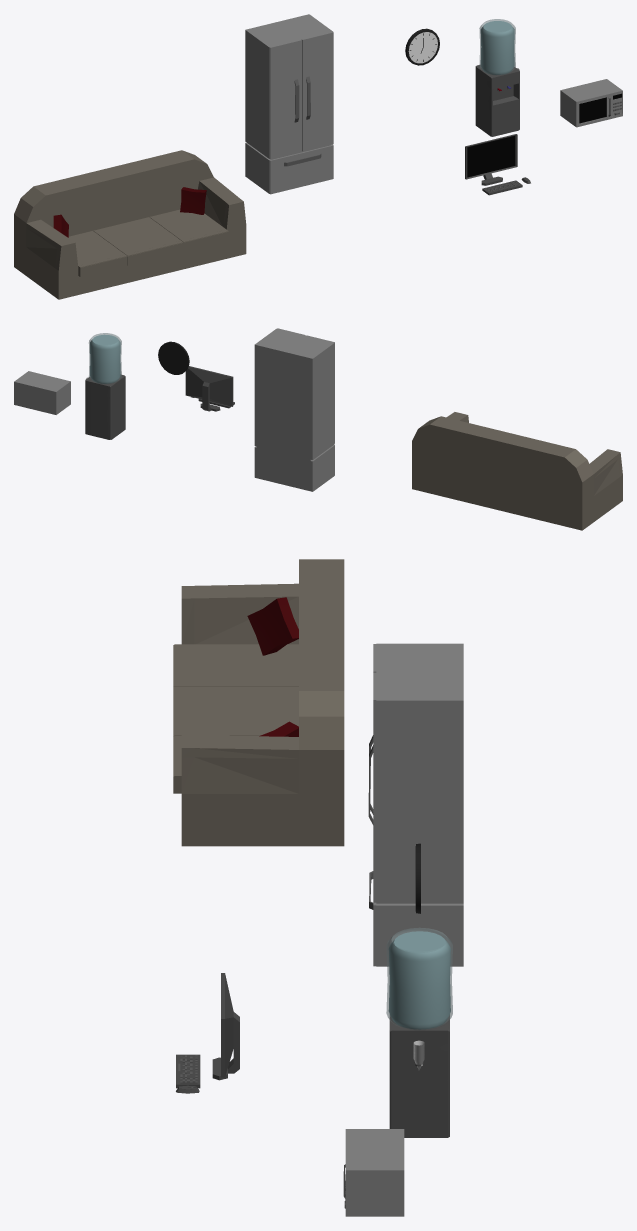
File: officeprops_kai.fbx
3 views of the same model, one above another, from view 1: azimuth 30°, elevation 25°; view 2: azimuth 150°, elevation 25°; view 3: azimuth 270°, elevation 25° (orthographic). The views are drawn at different scales.
Visible parts, largest first — view 1: couch1, fridge1, watercooler, microwave, computer, clock1, pillow2; view 2: couch1, fridge1, watercooler, microwave, computer, clock1; view 3: couch1, fridge1, watercooler, microwave, pillow1, computer.
Part boxes in pixels (left/top/right/bottom): couch1: left=14, top=150, right=246, bottom=299; fridge1: left=245, top=14, right=333, bottom=194; watercooler: left=475, top=19, right=519, bottom=136; microwave: left=560, top=79, right=622, bottom=127; computer: left=465, top=134, right=517, bottom=185; clock1: left=405, top=28, right=439, bottom=65; pillow2: left=180, top=187, right=206, bottom=214; couch1: left=412, top=412, right=622, bottom=530; fridge1: left=254, top=328, right=334, bottom=491; watercooler: left=85, top=333, right=125, bottom=439; microwave: left=14, top=371, right=70, bottom=414; computer: left=185, top=366, right=233, bottom=411; clock1: left=158, top=341, right=189, bottom=374; couch1: left=173, top=559, right=344, bottom=846; fridge1: left=368, top=643, right=463, bottom=966; watercooler: left=386, top=927, right=452, bottom=1137; microwave: left=343, top=1129, right=404, bottom=1216; pillow1: left=247, top=597, right=298, bottom=655; computer: left=212, top=973, right=239, bottom=1080.
Bounding box in the file's own units: 6.5 × 1.52 × 1.47.
